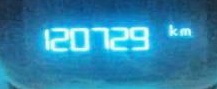0: (68, 26, 88, 51)
1: (41, 28, 49, 53)
2: (109, 24, 128, 51), (49, 26, 68, 51)
7: (90, 26, 109, 49)
9: (129, 25, 148, 50)
X: (167, 24, 178, 36), (179, 26, 190, 35)
